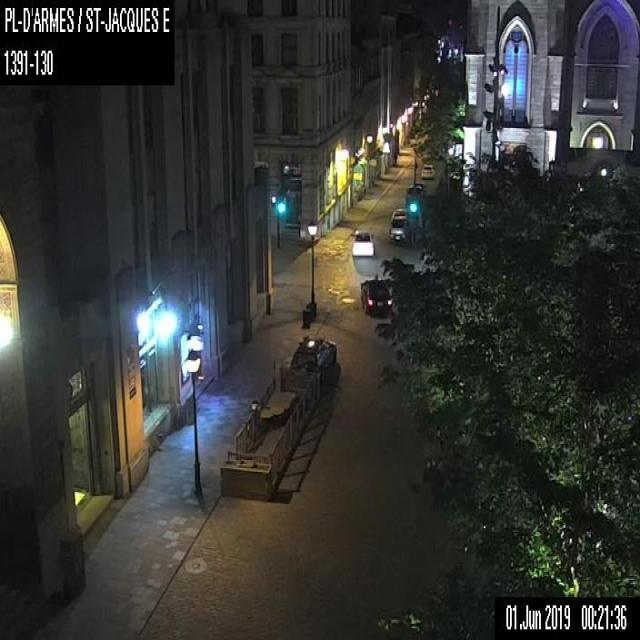vehicle: (289, 333, 336, 379), (360, 272, 390, 314), (388, 206, 410, 242), (349, 228, 374, 255), (420, 162, 435, 180)
